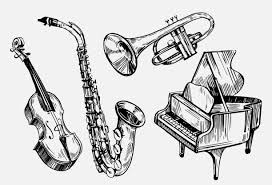Piano: (150, 46, 272, 185)
Saxophone: (41, 10, 162, 170)
Violin: (4, 28, 82, 179)
